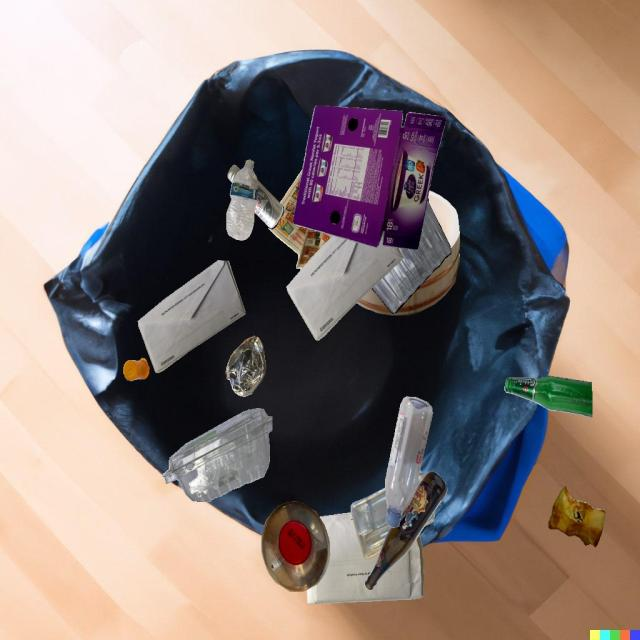biowaste: (548, 485, 605, 547)
cardboard: (293, 105, 447, 250)
combustible waste: (356, 191, 460, 316)
glass: (365, 471, 447, 590), (504, 376, 592, 418)
metal: (226, 336, 266, 397), (254, 179, 283, 229)
paper: (286, 233, 403, 340), (138, 260, 245, 373), (307, 512, 424, 604), (266, 169, 333, 269)
plastic: (162, 408, 272, 502), (372, 196, 451, 314), (385, 397, 433, 528), (261, 502, 330, 591), (380, 489, 430, 552), (351, 487, 391, 560), (226, 159, 259, 240), (123, 358, 150, 381)
